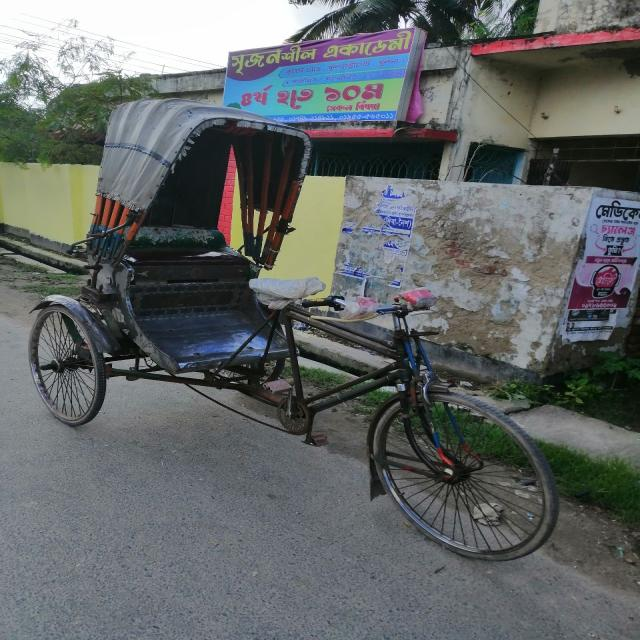Auto-Rickshaw: (17, 88, 575, 571)
